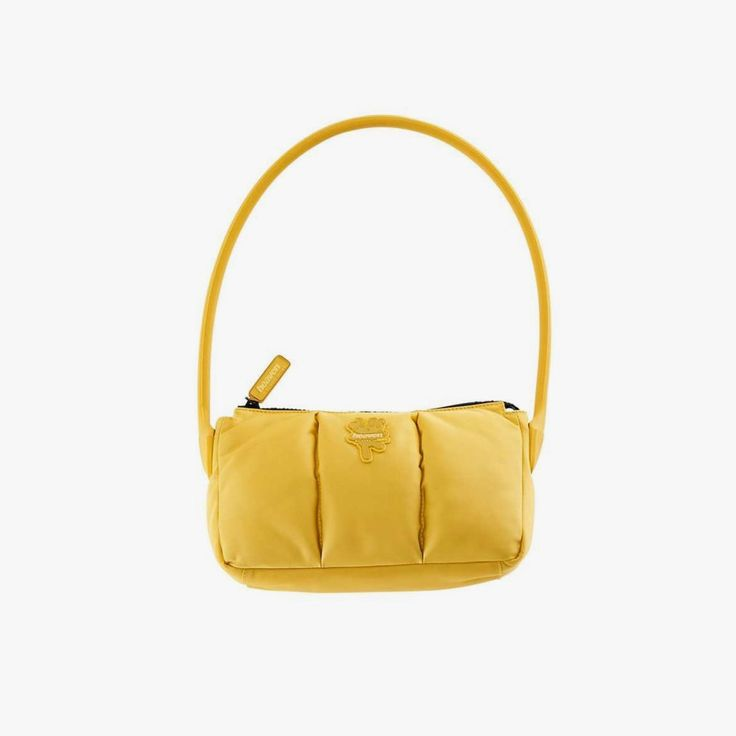nylon: (207, 401, 533, 592)
